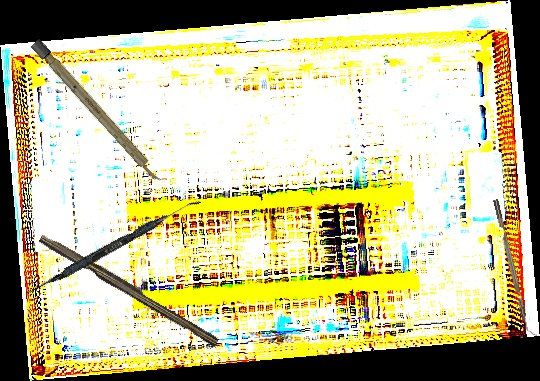Chopper: (493, 197, 537, 339)
Scalpel Handle: (36, 230, 223, 348), (30, 38, 165, 186)
Spatula Surgical: (26, 192, 201, 301)
